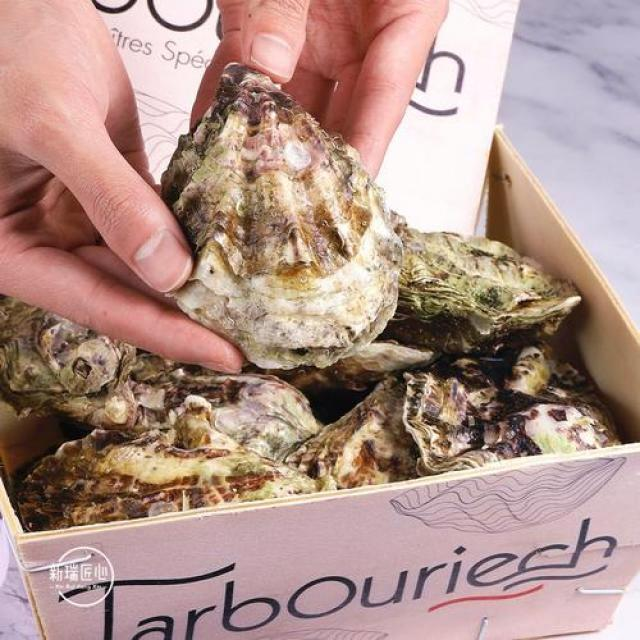Oyster-Closed: (158, 62, 410, 350), (13, 436, 326, 531), (380, 231, 581, 356), (0, 295, 167, 428), (402, 364, 542, 475), (300, 374, 426, 492), (169, 376, 324, 458), (245, 342, 441, 394), (508, 347, 615, 433), (516, 405, 623, 462)
